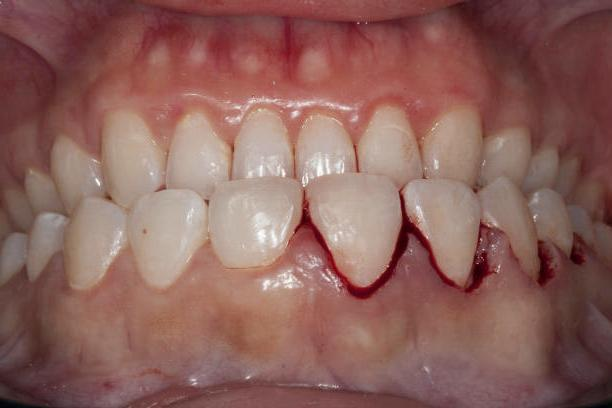Gingivitis: (288, 221, 424, 305), (416, 234, 519, 307), (540, 221, 592, 290), (505, 237, 555, 306)
